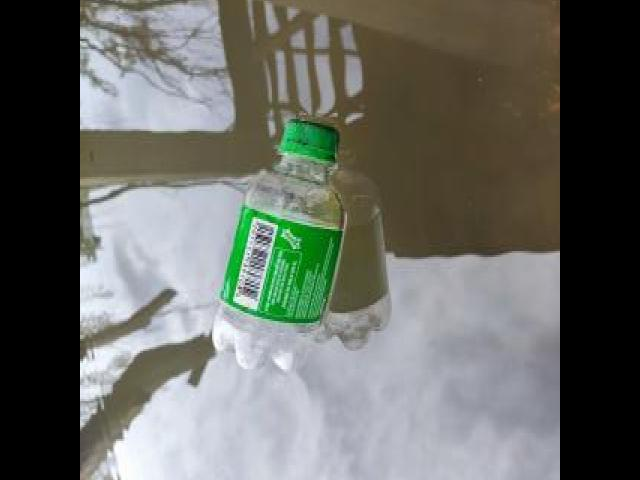Bottle: (205, 101, 354, 379)
